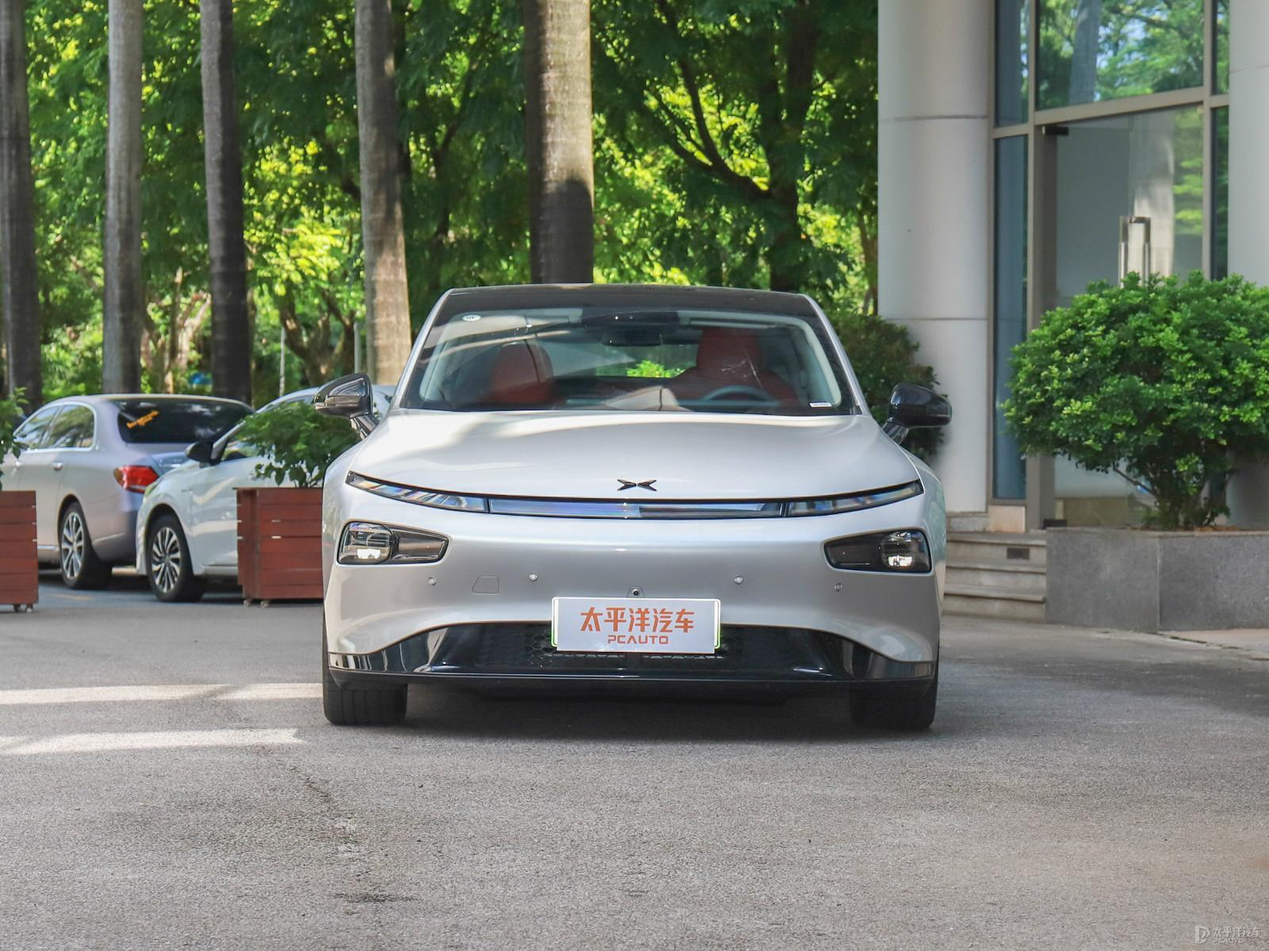XPeng Motors: (616, 479, 658, 492)
